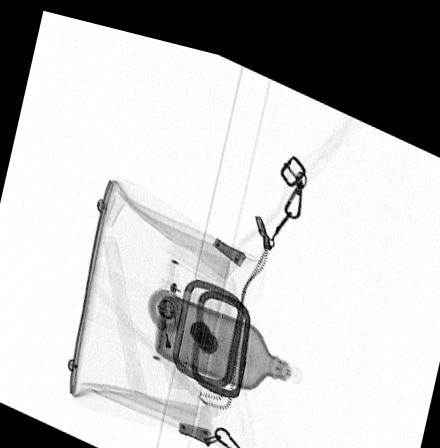Lighter: (155, 300, 190, 379)
